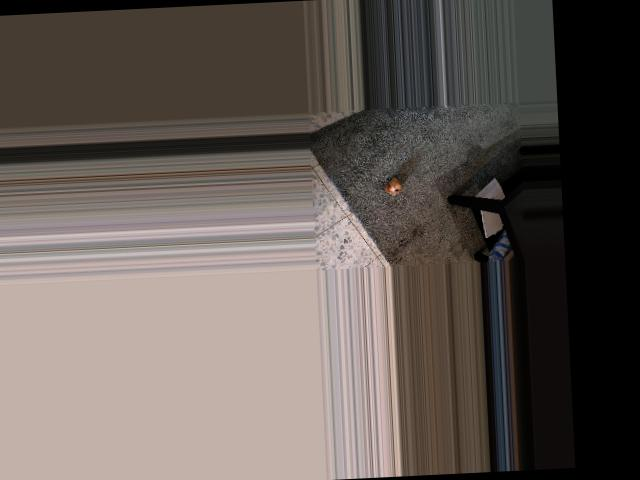onion: (381, 171, 404, 196)
